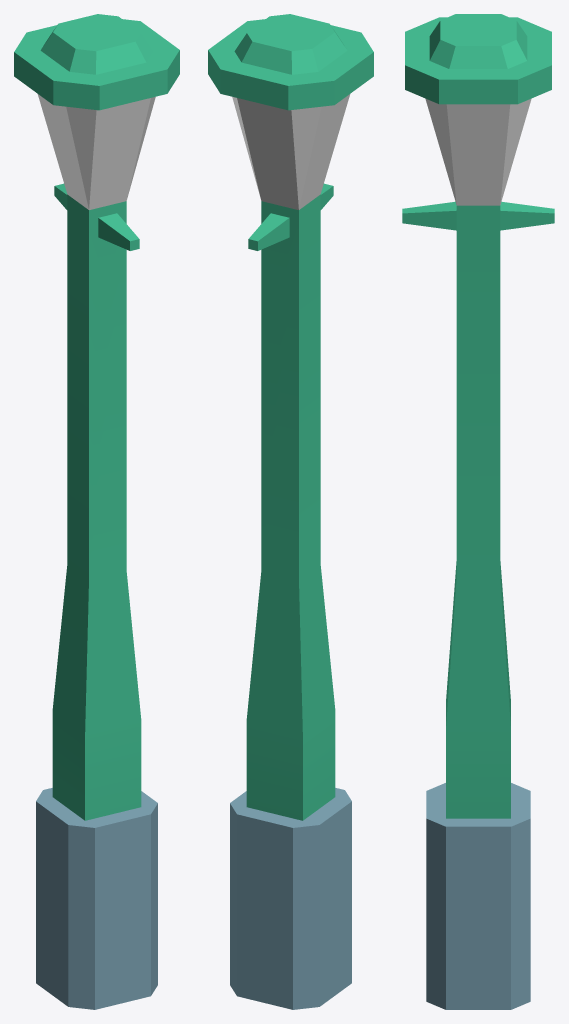
Rendered from lantern.obj.
3 views of the same model, side by side, from view 1: azimuth 30°, elevation 25°; view 2: azimuth 150°, elevation 25°; view 3: azimuth 270°, elevation 25° (orthographic).
Parts seen in each view (by area): view 1: lantern; view 2: lantern; view 3: lantern.
Boxes of the visible parts, box(x1,y1,x2,y2) form: lantern: box(14, 14, 179, 1009); lantern: box(208, 14, 373, 1009); lantern: box(402, 14, 554, 1009).
Bounding box in the file's own units: 0.2164 × 1.56 × 0.2243.
